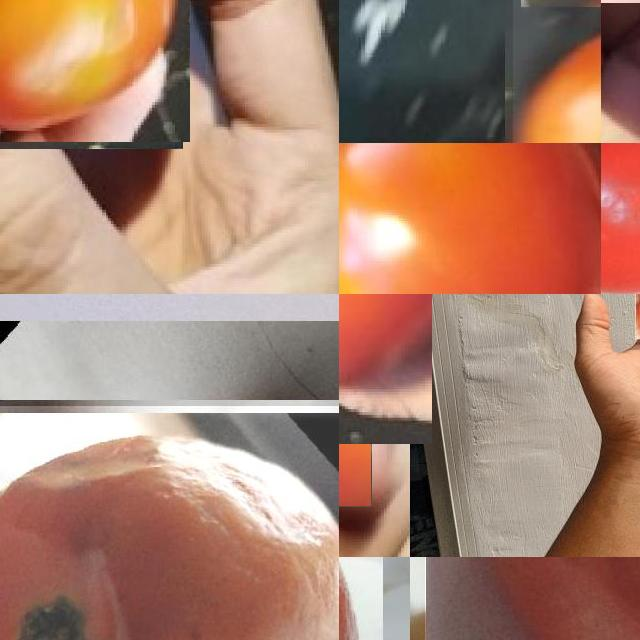0: (0, 0, 186, 145)
1: (0, 406, 339, 640), (425, 557, 640, 640)
Fresh Tomato: (339, 143, 601, 294), (601, 143, 640, 294)
